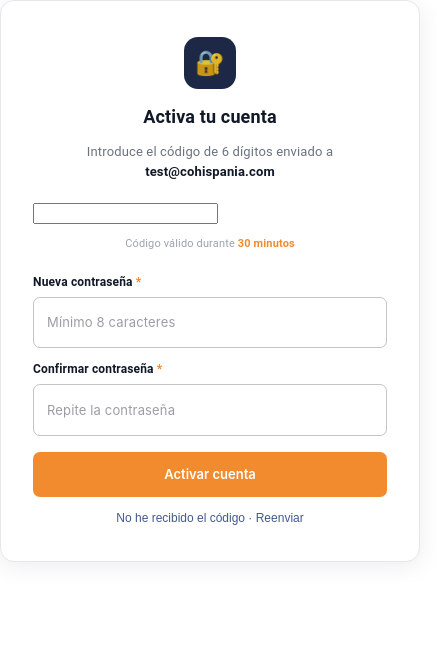
Scenario: AuthCodeForm › muestra error si submitFn falla
Type "ABC123" into the field with test id "code-input" at x=126, y=214, box left=33, top=203, right=218, bottom=224
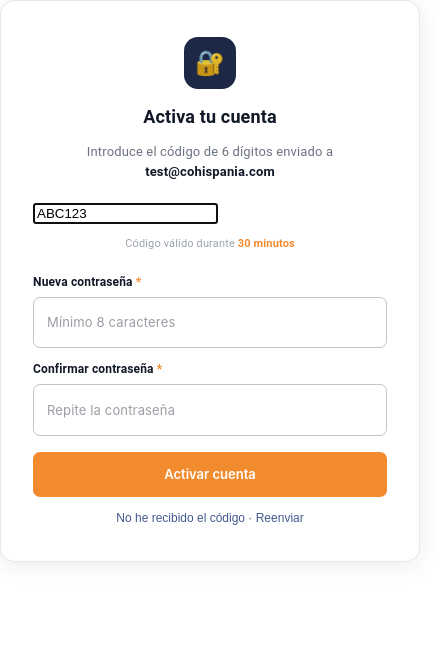
Type "contraseña123" into the password field with placeholder "Mínimo 8 caracteres" at x=210, y=322, box left=33, top=296, right=387, bottom=348
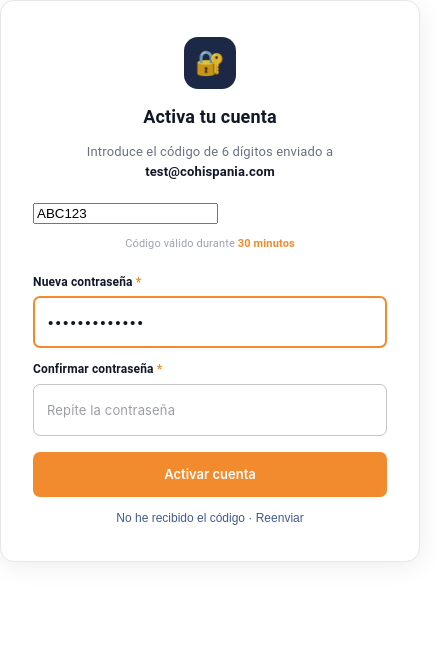
Type "contraseña123" into the password field with placeholder "Repite la contraseña" at x=210, y=410, box left=33, top=384, right=387, bottom=436
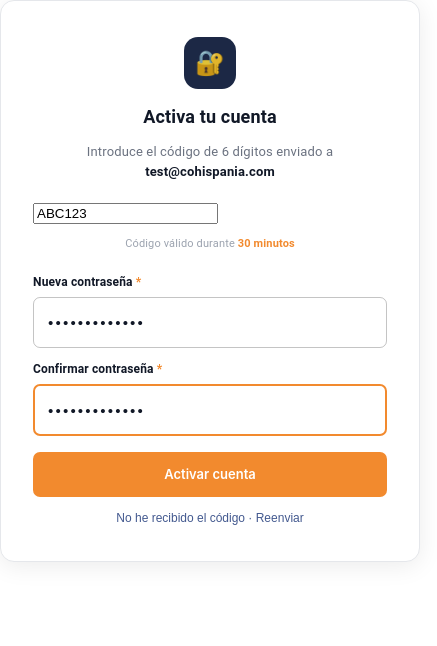
Click the button "Activar cuenta" at x=210, y=474, box left=33, top=452, right=387, bottom=497
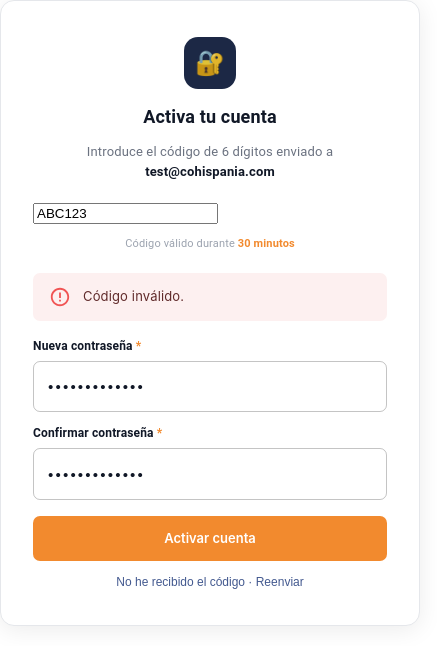
Expected: the text "Código inválido." is shown, left=83, top=288, right=184, bottom=304
